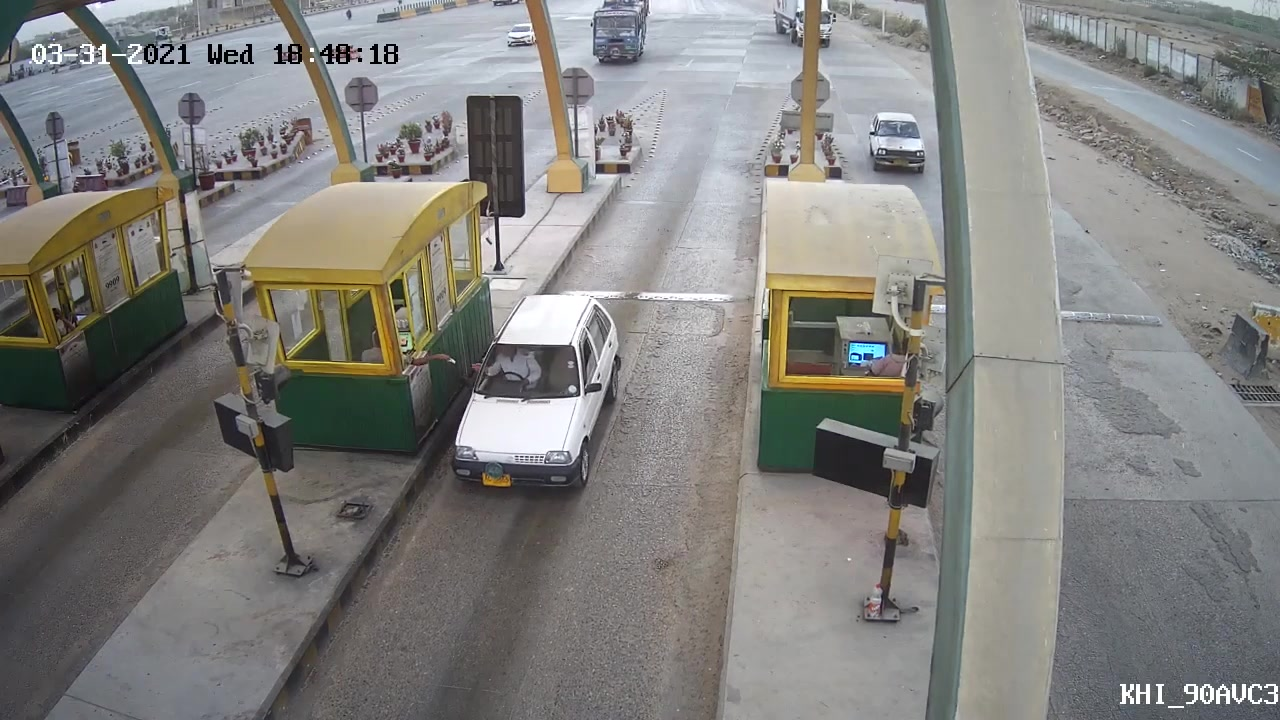F1: (445, 296, 628, 492)
